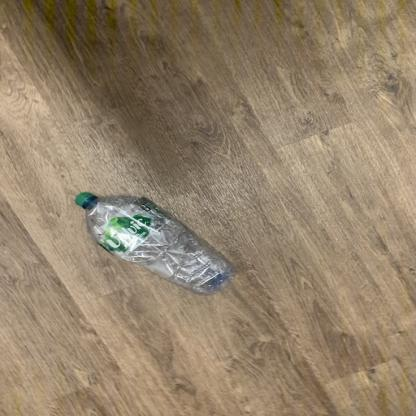trash: (73, 191, 236, 299)
